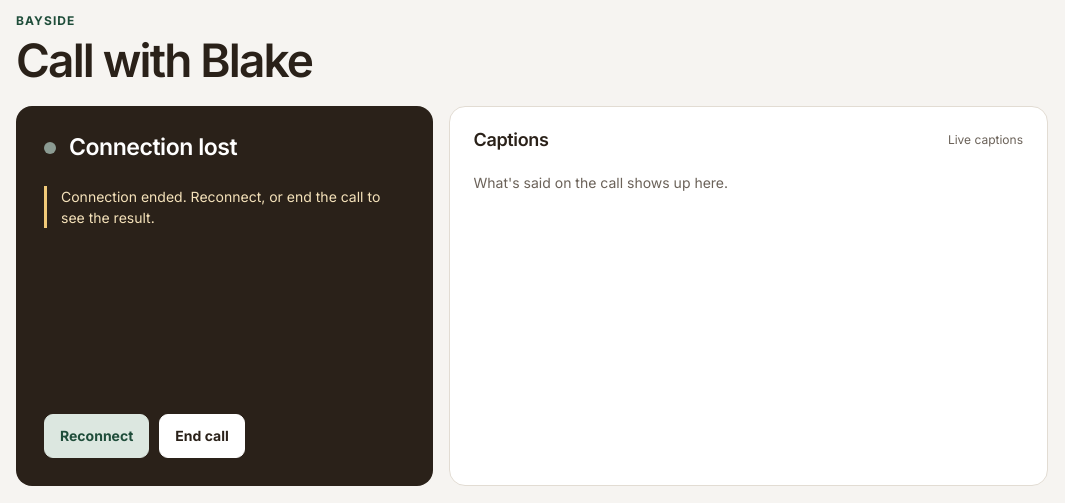
reconnects only after a fresh active status allows it
Later steps or results of the test are not shown.
Click the button "Reconnect" at (97, 436), box left=44, top=414, right=149, bottom=458
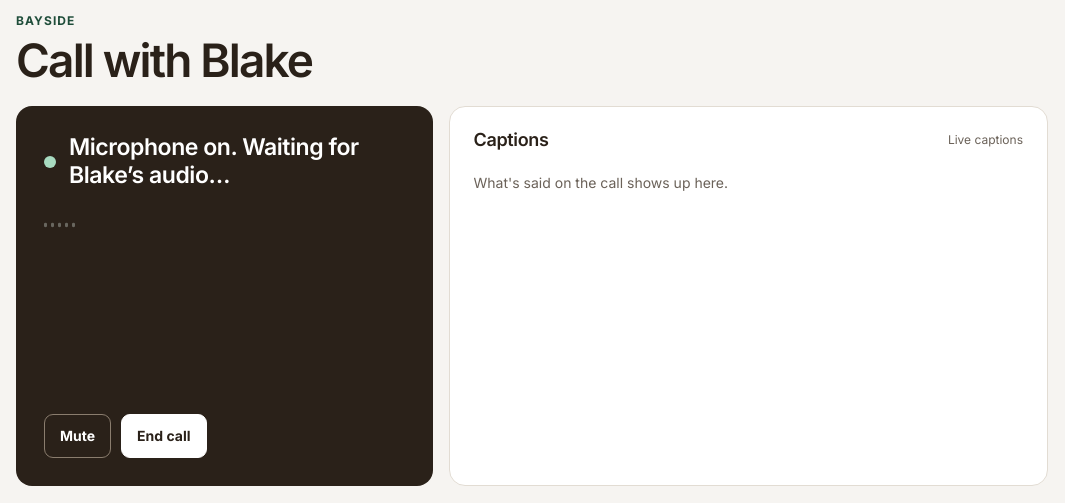
Now the text "Microphone on. Waiting for Blake’s audio…" is shown, box left=69, top=134, right=404, bottom=189
